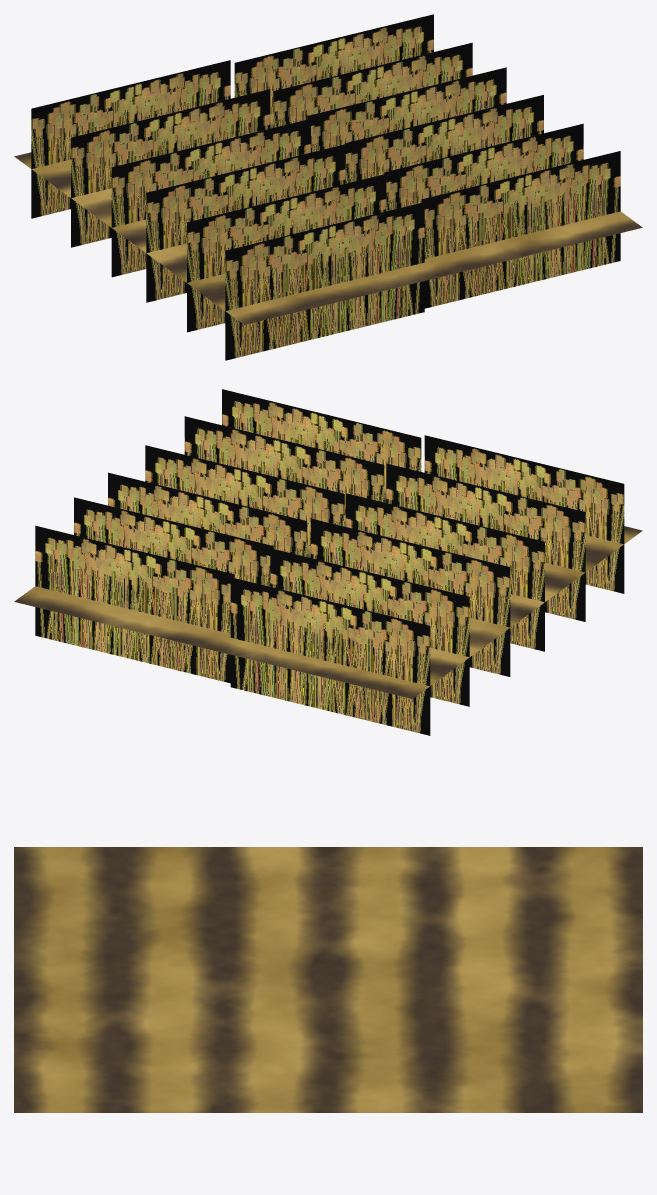
Rendered from Crop_Wheat_1.gltf.
The picture shows the model from 3 angles, top to bottom: view 1: azimuth 30°, elevation 25°; view 2: azimuth 150°, elevation 25°; view 3: azimuth 270°, elevation 25°; orthographic projection. The views are drawn at different scales.
Parts seen in each view (by area): view 1: Crop_Wheat_1; view 2: Crop_Wheat_1; view 3: Crop_Wheat_1.
Part boxes in pixels (x1,y1,x2,y2): Crop_Wheat_1: [14, 14, 642, 360]; Crop_Wheat_1: [14, 389, 642, 735]; Crop_Wheat_1: [14, 847, 642, 1112].
Size of the model in its own units: 4 by 1.06 by 4.
Materials: 2 (2 with a texture image).
